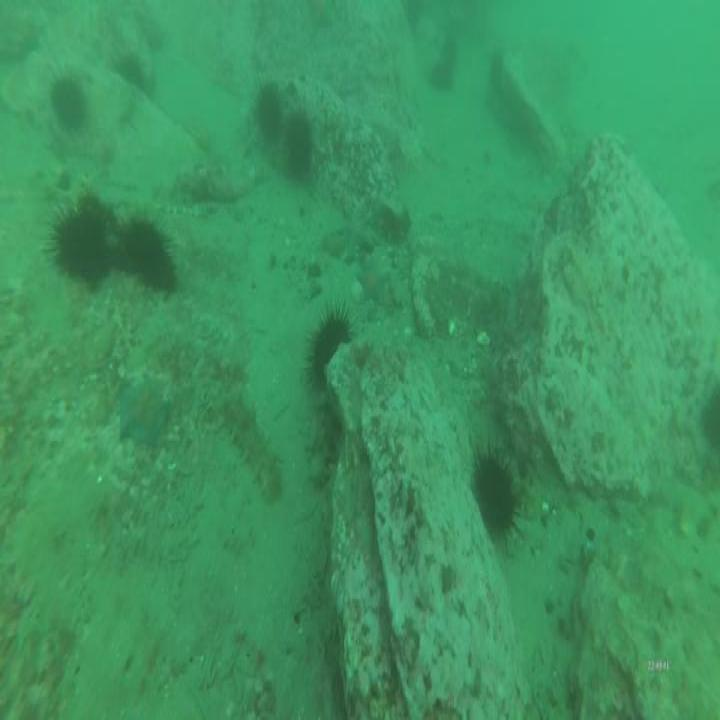echinus: (44, 199, 114, 292), (467, 437, 524, 546), (114, 212, 181, 302), (304, 300, 355, 388), (45, 68, 91, 134), (249, 73, 284, 149), (281, 101, 314, 178), (110, 46, 150, 94), (427, 52, 456, 96)
holothurian: (219, 386, 287, 510), (75, 183, 131, 244)
starfish: (115, 373, 175, 459)
